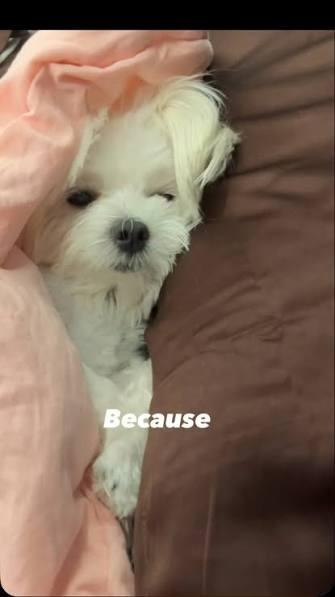adult_dog: (20, 73, 239, 535)
